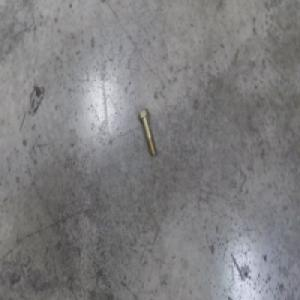Bolt: (135, 110, 153, 158)
